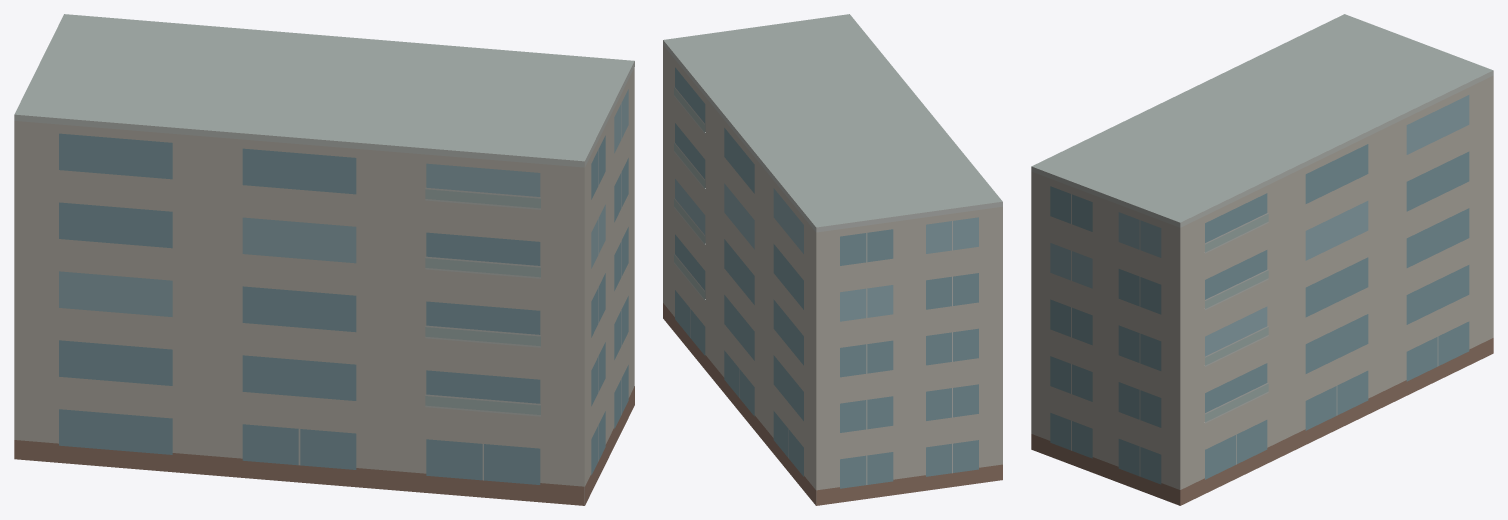
Rendered from survey-upis-32966682.glb.
The picture shows the model from 3 angles, left to right: view 1: azimuth 30°, elevation 25°; view 2: azimuth 150°, elevation 25°; view 3: azimuth 270°, elevation 25°; orthographic projection. The views are drawn at different scales.
Visible parts, largest first — view 1: survey-upis-32966682.tmp; view 2: survey-upis-32966682.tmp; view 3: survey-upis-32966682.tmp.
Boxes of the visible parts, left/top/right/bottom form: survey-upis-32966682.tmp: left=14, top=14, right=634, bottom=505; survey-upis-32966682.tmp: left=663, top=14, right=1002, bottom=505; survey-upis-32966682.tmp: left=1031, top=14, right=1493, bottom=505.
Size of the model in its own units: 21.35 by 13.5 by 19.97.
